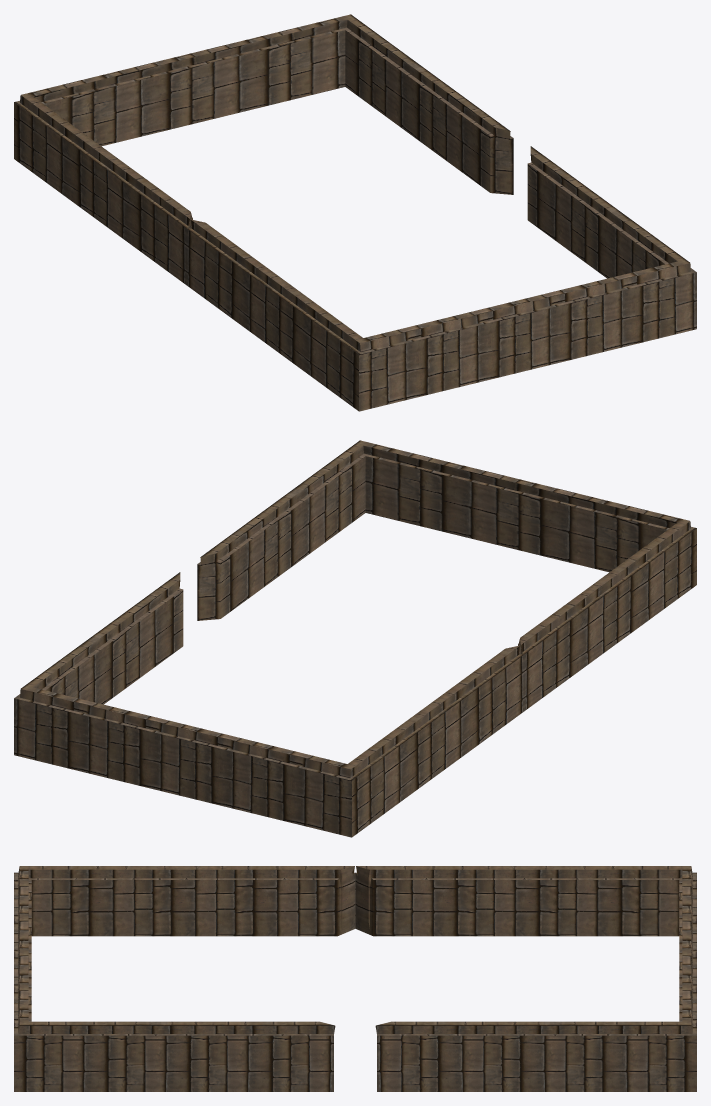
File: gate.glb
The picture shows the model from 3 angles, top to bottom: view 1: azimuth 30°, elevation 25°; view 2: azimuth 150°, elevation 25°; view 3: azimuth 270°, elevation 25°; orthographic projection.
Parts seen in each view (by area): view 1: Cube.002; view 2: Cube.002; view 3: Cube.002.
Part boxes in pixels (x1,y1,x2,y2): Cube.002: (14, 14, 696, 411); Cube.002: (14, 440, 696, 837); Cube.002: (14, 866, 696, 1091).
Bounding box in the file's own units: 12.52 × 2.31 × 22.15.
1 material, 1 textured.
